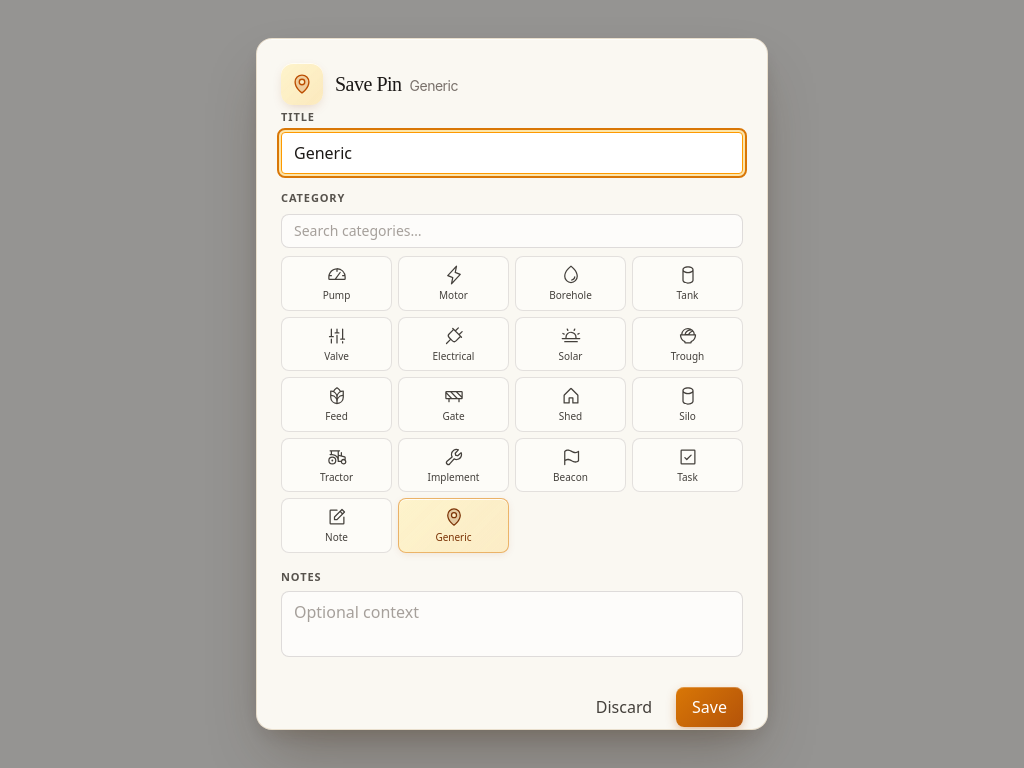
Test: SaveAnnotationModal › category search filters displayed categories
The width and height of the screenshot is (1024, 768).
Expected: the radio button labelled "Pump" is shown, [281,256,392,311]
Expected: the radio button labelled "Gate" is shown, [398,377,509,432]
In the field with placeholder "Search categories…": [512, 231] box [281,214,743,248], type "pump"
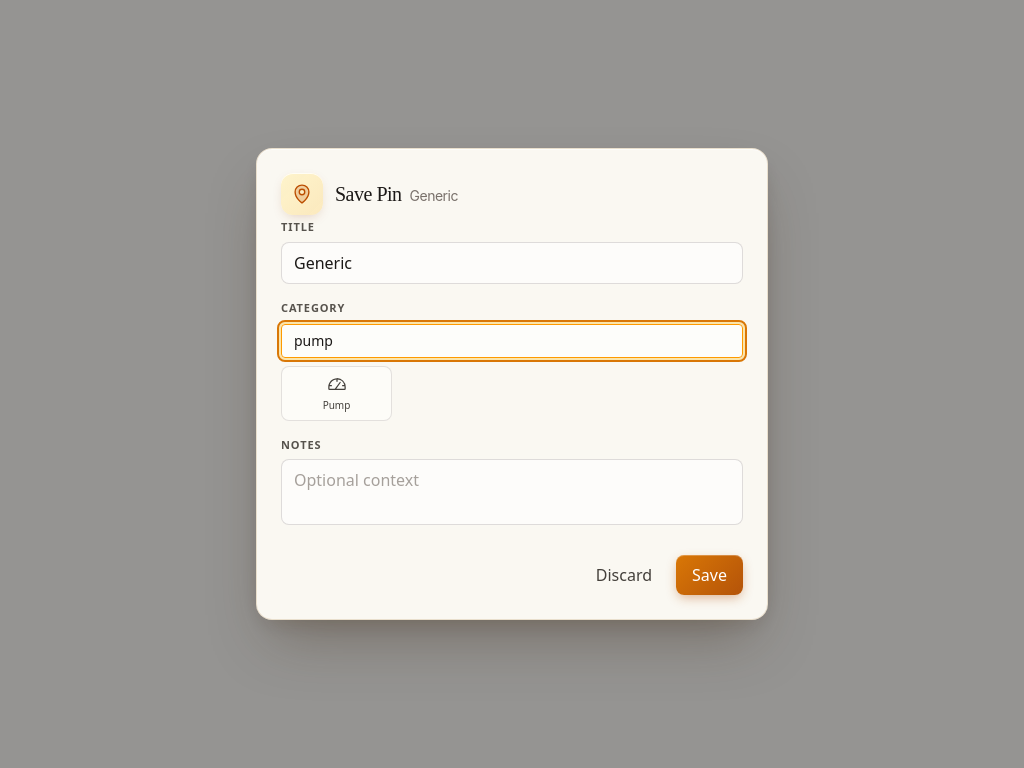
Expected: the radio button labelled "Pump" is shown, [281,366,392,420]
Expected: the radio button is gone
